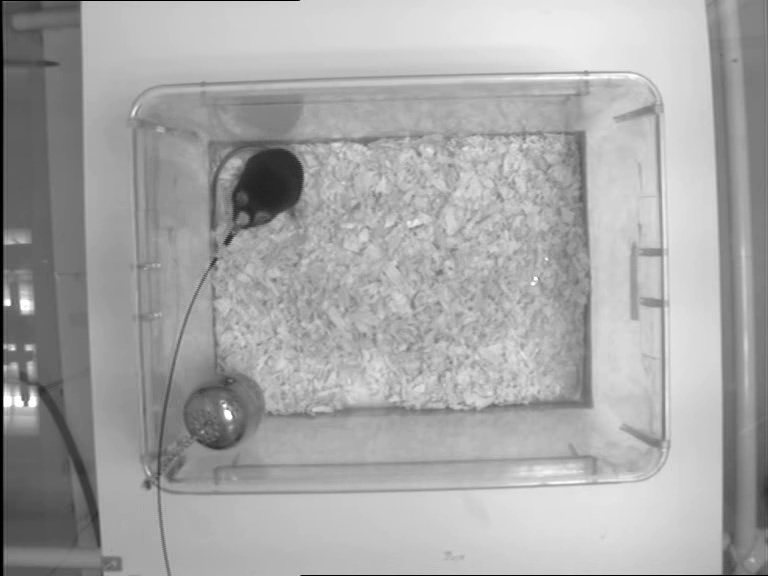mice: (211, 140, 304, 240)
